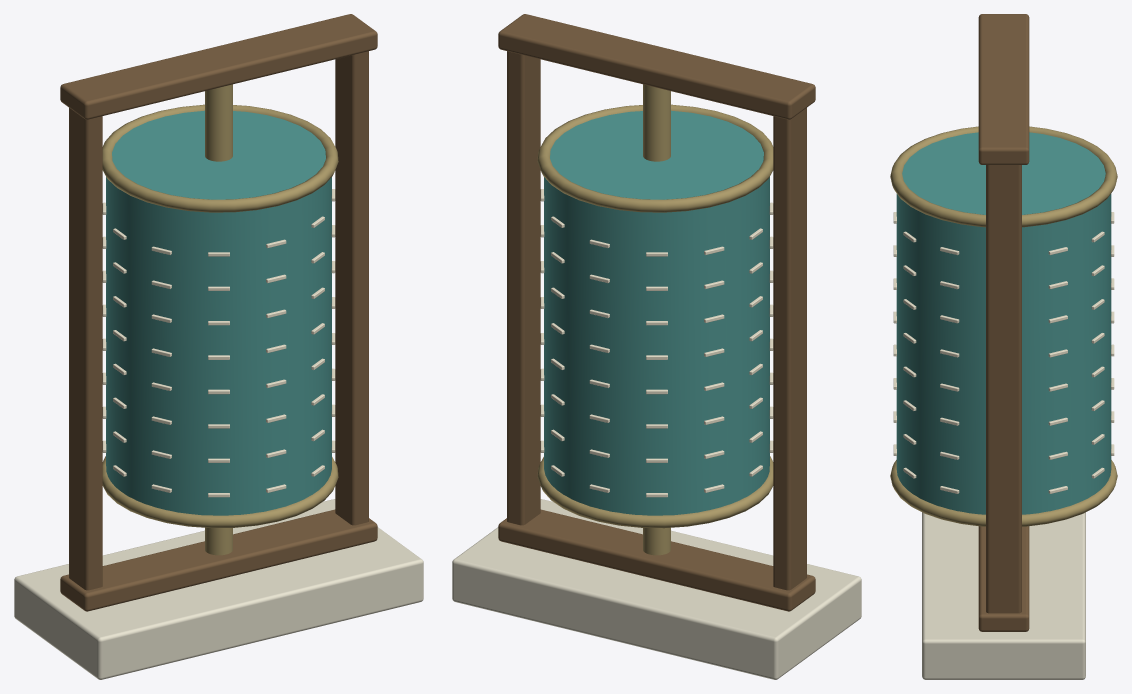
File: water-clock-garden-and-hydraulic-puzzles-seasonal-hour-d05fe8e9__31930.glb
3 views of the same model, side by side, from view 1: azimuth 30°, elevation 25°; view 2: azimuth 150°, elevation 25°; view 3: azimuth 270°, elevation 25° (orthographic). The views are drawn at different scales.
Visible parts, largest first — view 1: seasonal-hour-drum; view 2: seasonal-hour-drum; view 3: seasonal-hour-drum.
Boxes of the visible parts, x1,y1,x2,y2 form: seasonal-hour-drum: (14, 14, 423, 679); seasonal-hour-drum: (452, 14, 861, 679); seasonal-hour-drum: (890, 14, 1117, 679).
Bounding box in the file's own units: 1.2 × 1.95 × 0.764.
